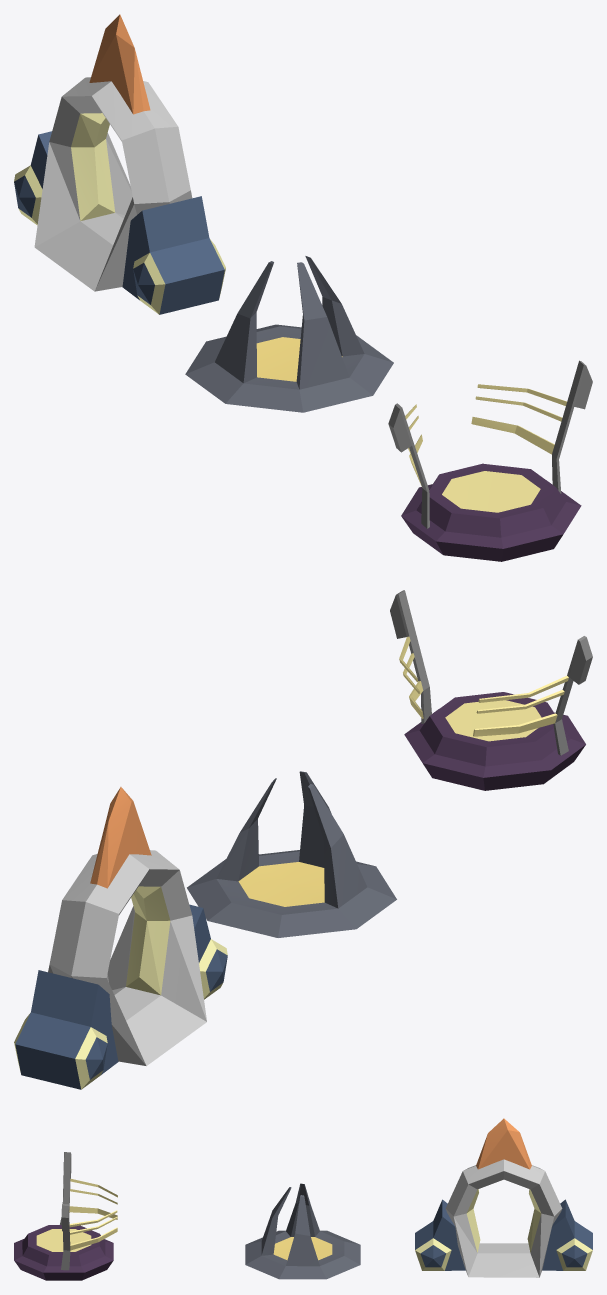
Rendered from portals.fbx.
3 views of the same model, one above another, from view 1: azimuth 30°, elevation 25°; view 2: azimuth 150°, elevation 25°; view 3: azimuth 270°, elevation 25° (orthographic). The views are drawn at different scales.
Parts seen in each view (by area): view 1: portal_1, portal3, portal_part3, portal2, portal_part, portal_part2, portal_part1, portal_part2_2; view 2: portal_1, portal3, portal_part3, portal2, portal_part, portal_part1, portal_part2, portal_part2_2; view 3: portal_1, portal_part3, portal3, portal2, portal_part, portal_part2, portal_part2_2, portal_part1.
Boxes of the visible parts, x1,y1,x2,y2 form: portal_1: (34, 77, 192, 291); portal3: (401, 463, 581, 561); portal_part3: (14, 131, 225, 314); portal2: (185, 324, 393, 412); portal_part: (215, 256, 364, 389); portal_part2: (89, 14, 150, 114); portal_part1: (388, 360, 592, 528); portal_part2_2: (405, 384, 566, 486); portal_1: (48, 850, 206, 1065); portal3: (404, 692, 585, 790); portal_part3: (14, 904, 227, 1089); portal2: (187, 850, 396, 937); portal_part: (216, 771, 367, 908); portal_part1: (390, 590, 592, 755); portal_part2: (90, 787, 151, 888); portal_part2_2: (399, 636, 568, 736); portal_1: (445, 1159, 562, 1277); portal_part3: (415, 1199, 592, 1270); portal3: (14, 1225, 113, 1280); portal2: (245, 1230, 360, 1279); portal_part: (261, 1183, 319, 1266); portal_part2: (476, 1118, 531, 1169); portal_part2_2: (69, 1178, 117, 1250); portal_part1: (60, 1152, 71, 1270).
Size of the model in its own units: 151 by 177 by 646.
